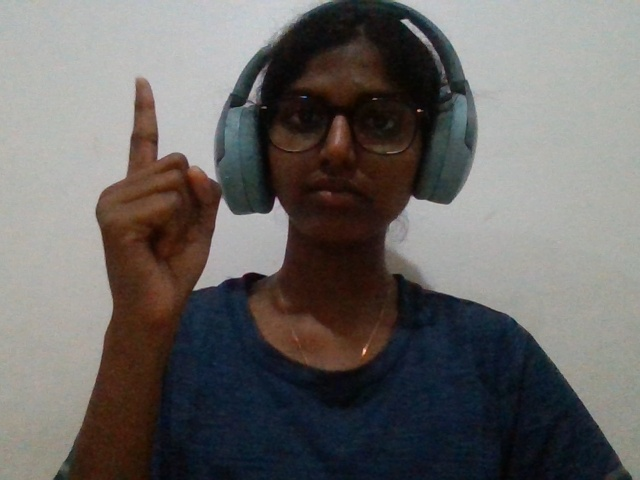You: (75, 60, 281, 374)
